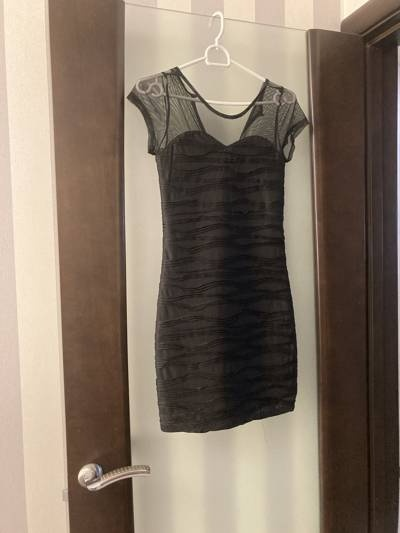Dress: (123, 65, 337, 447)
